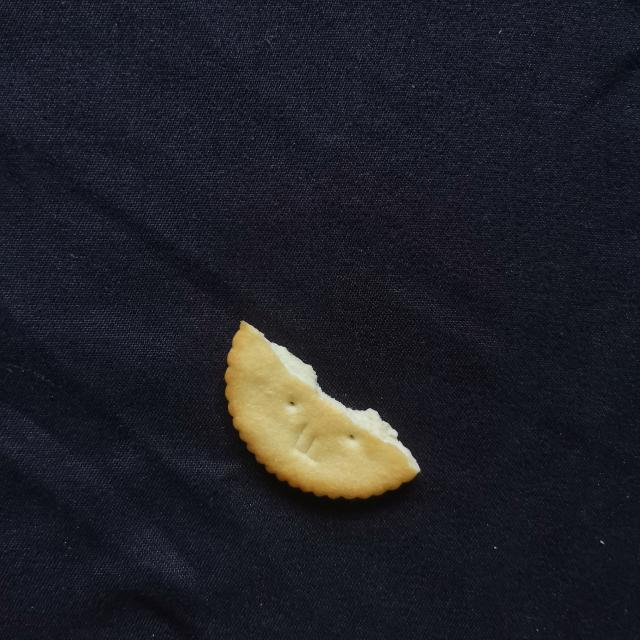Broken: (223, 319, 421, 501)
